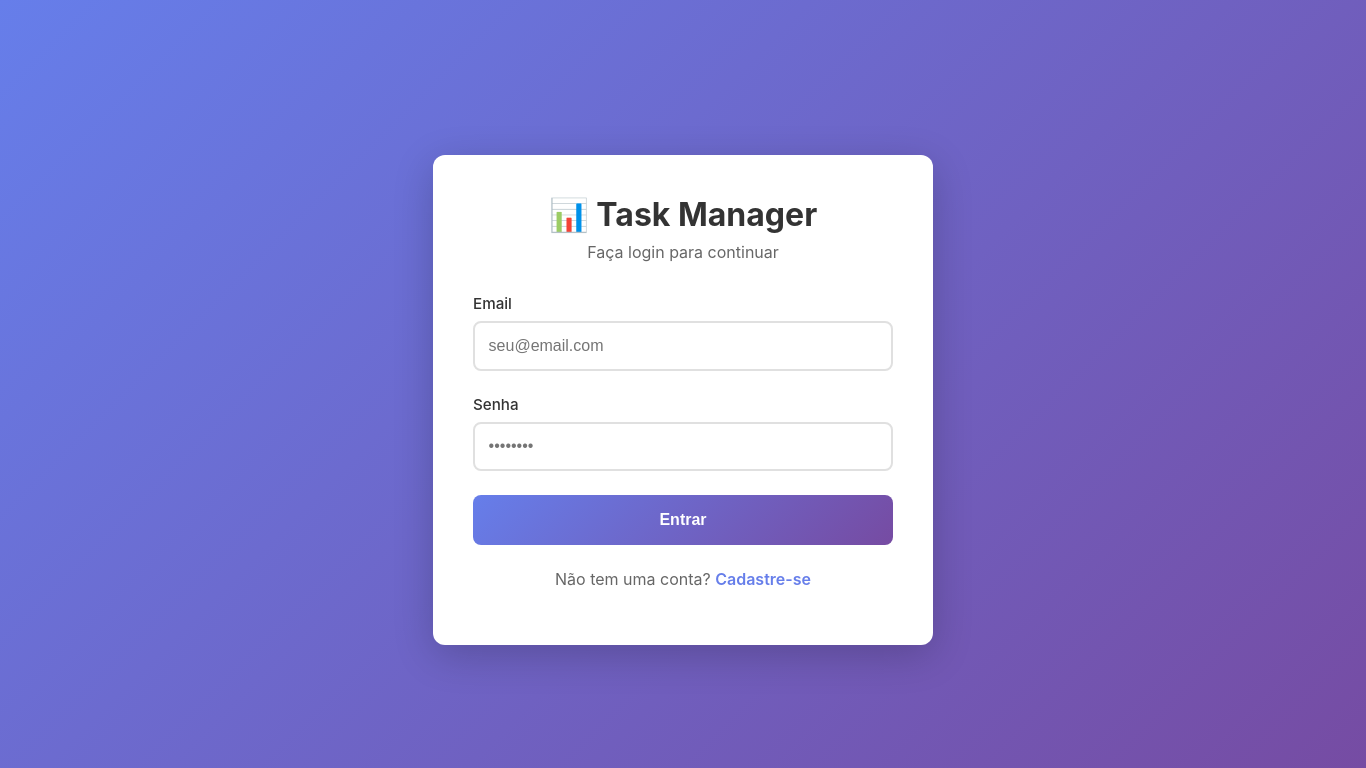
Test: Login Page › deve exibir erro ao falhar login
Type "wrong@example.com" into the field with test id "email-input" at (683, 346), box [473,321,893,370]
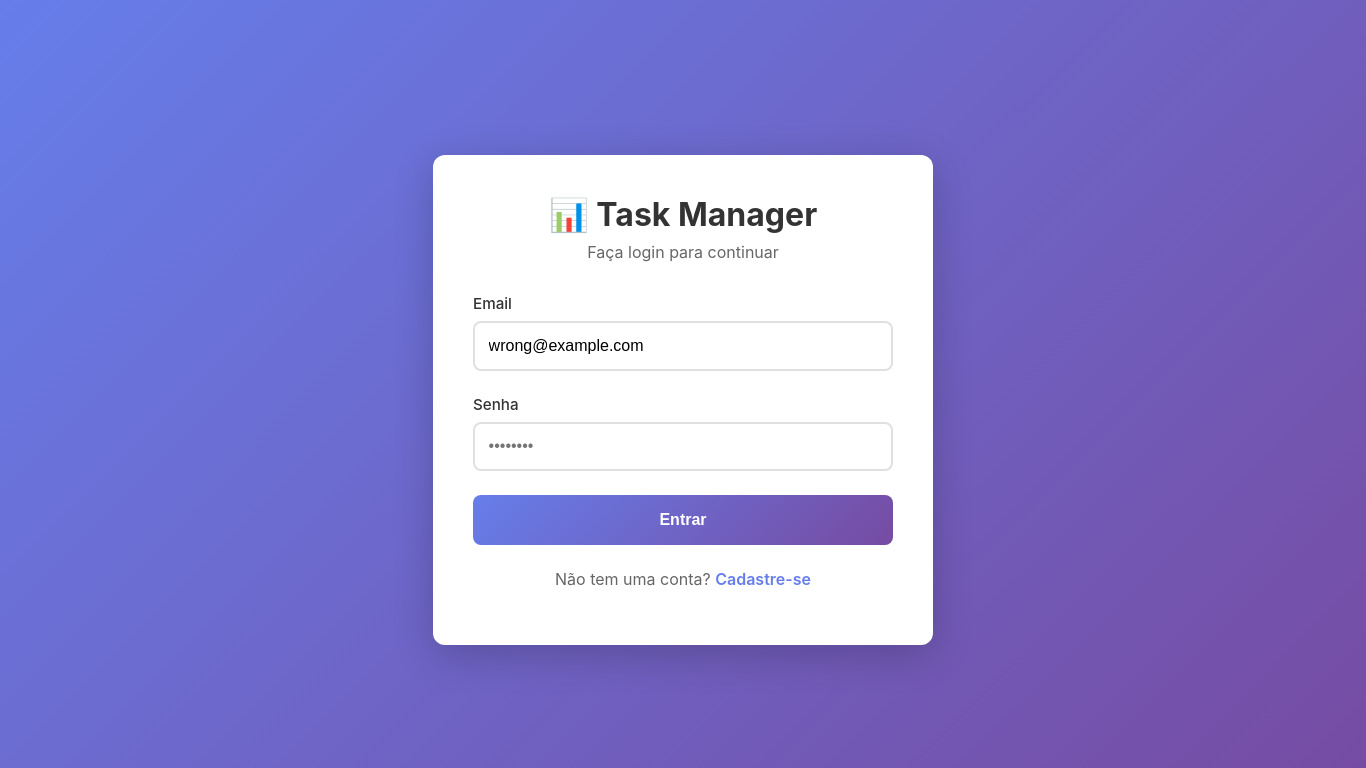
Type "wrongpass" into the password field with test id "password-input" at (683, 446), box [473,422,893,471]
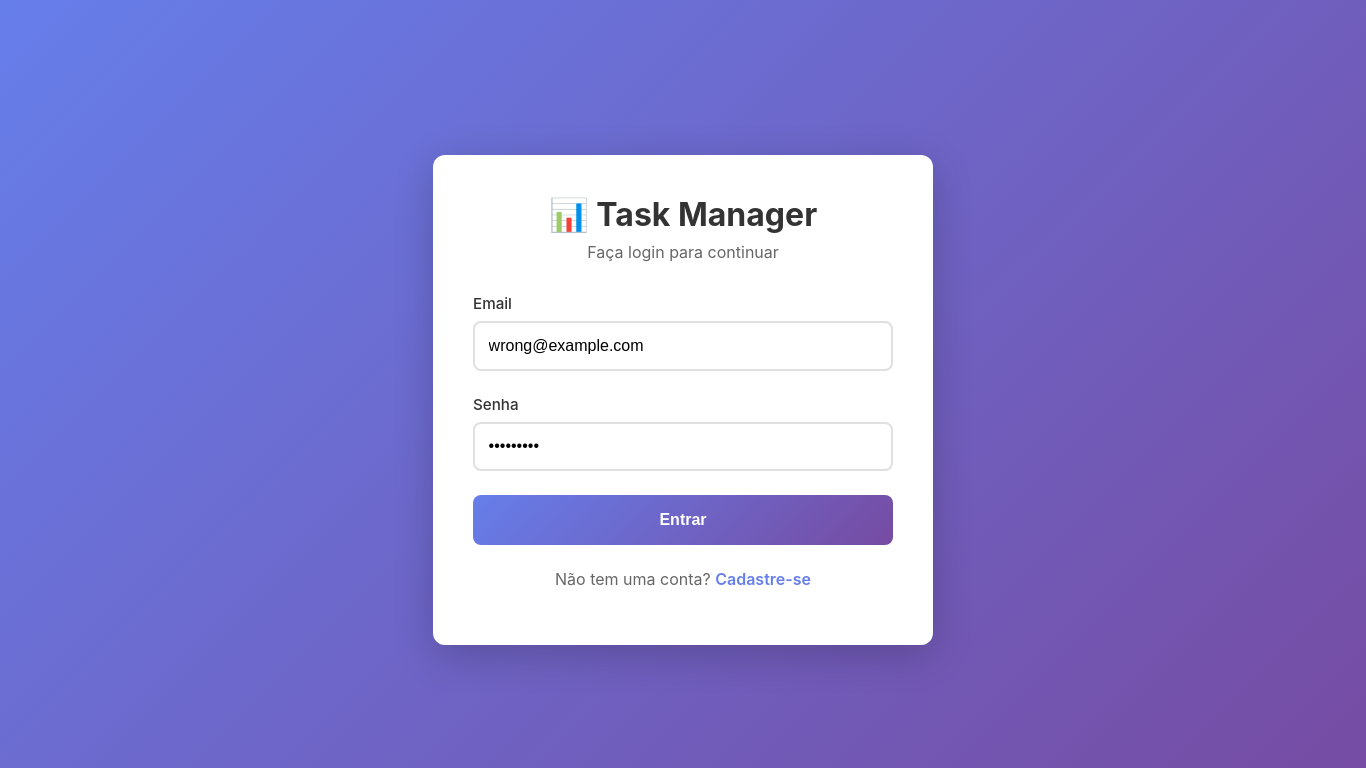
Click the button with test id "submit-button" at (683, 520), box [473,495,893,545]
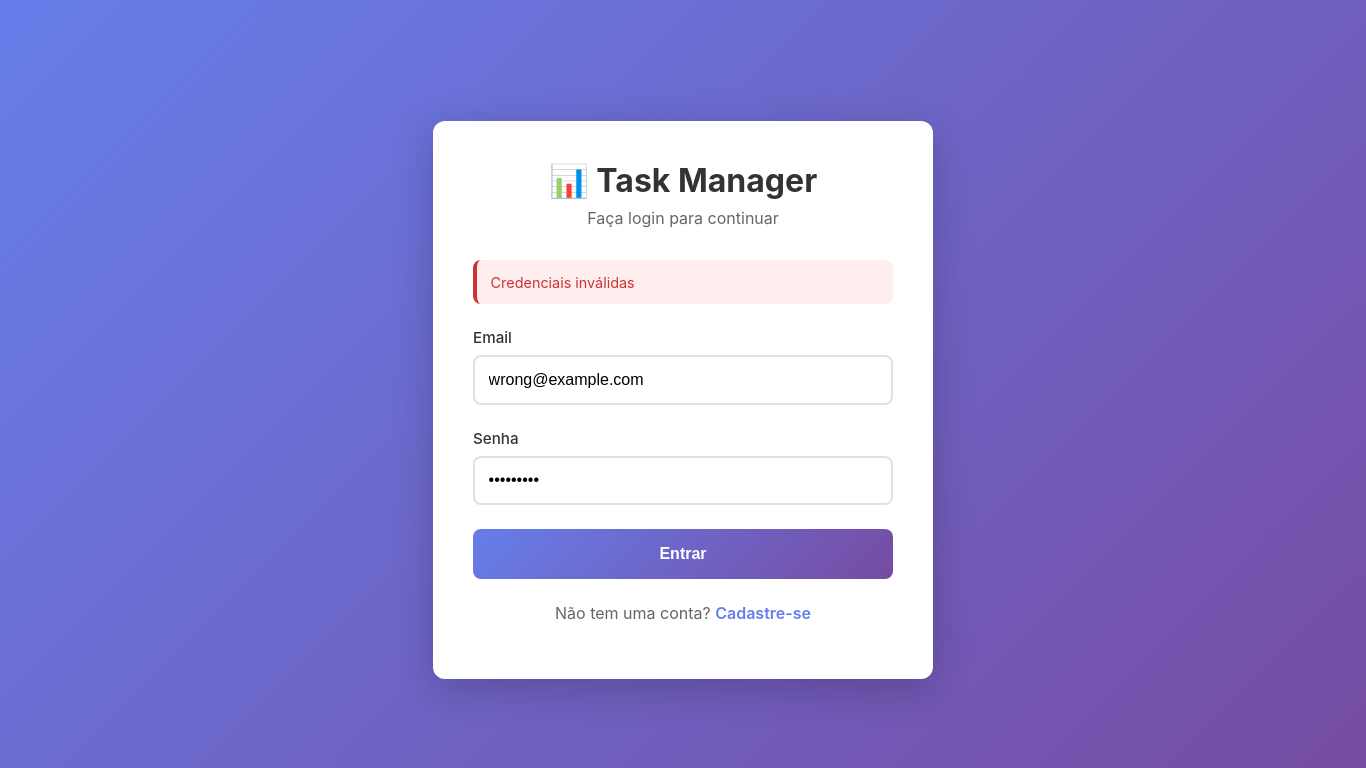
Result: the text "Credenciais inválidas" is shown at [473,260,893,304]
